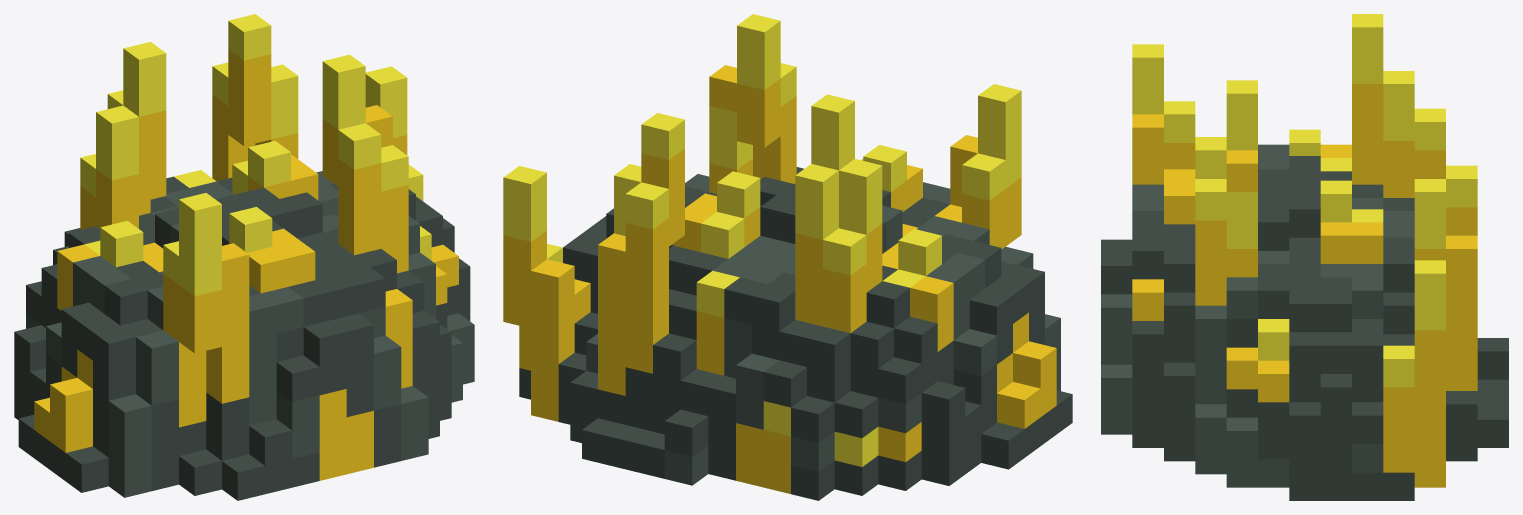
The model's file is GoldDeposit_L.obj.
The picture shows the model from 3 angles, left to right: view 1: azimuth 30°, elevation 25°; view 2: azimuth 150°, elevation 25°; view 3: azimuth 270°, elevation 25°; orthographic projection.
Parts seen in each view (by area): view 1: GoldDeposit_L; view 2: GoldDeposit_L; view 3: GoldDeposit_L.
Part boxes in pixels (bbox=[...]): GoldDeposit_L: bbox=[14, 14, 474, 500]; GoldDeposit_L: bbox=[503, 14, 1072, 500]; GoldDeposit_L: bbox=[1101, 14, 1508, 500].
Size of the model in its own units: 1.6 by 1.2 by 1.3.
1 material, 1 textured.
